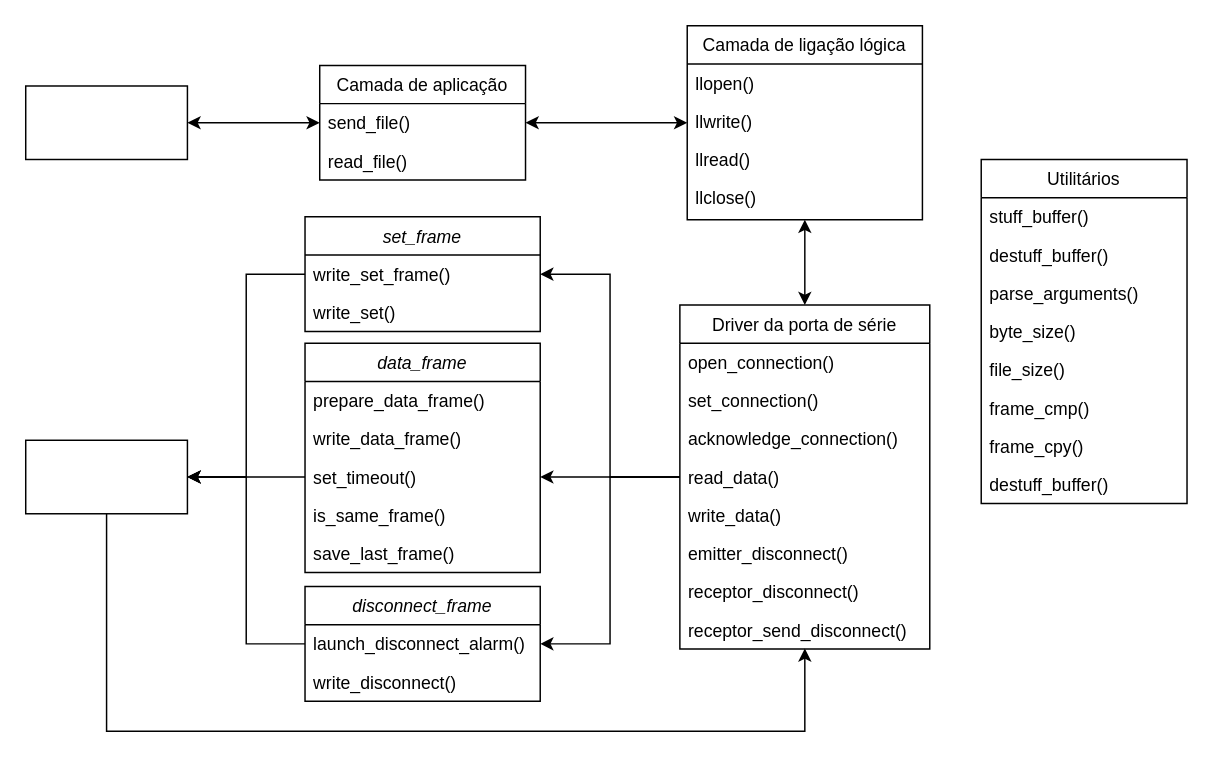
Image size: 1213x769. Some labels were removed from this diagram. Here are the shapes that lost their labels. From the top down, the centre of each, then its label:
At point (105, 122): "Emissor / Recetor".
At point (105, 476): "Porta de série".
